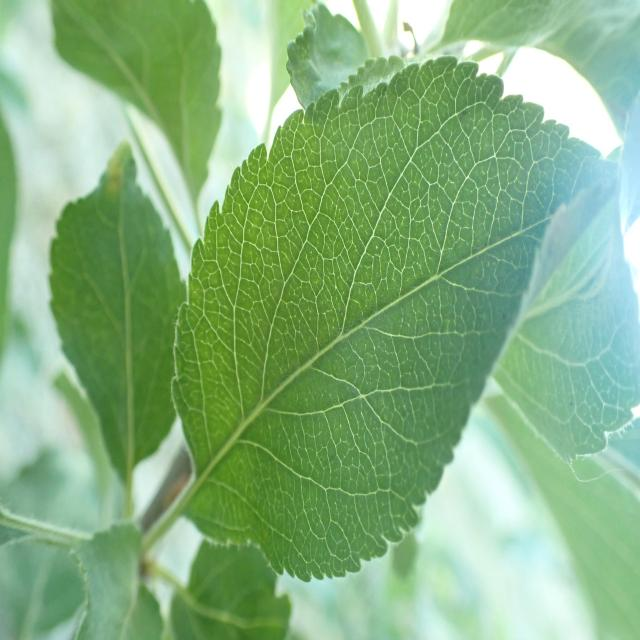healthy: (172, 57, 619, 580), (491, 154, 640, 479), (48, 140, 186, 489), (51, 0, 222, 217), (168, 537, 292, 640)
